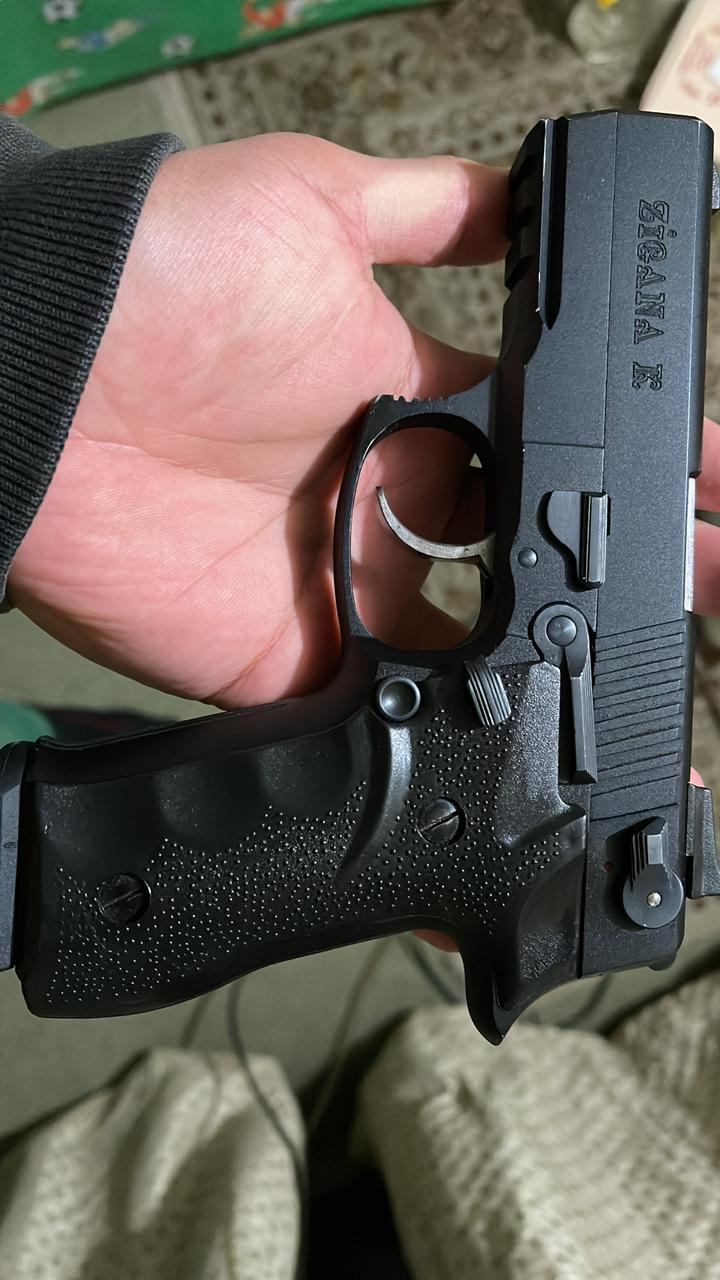weapon: (11, 108, 715, 1042)
